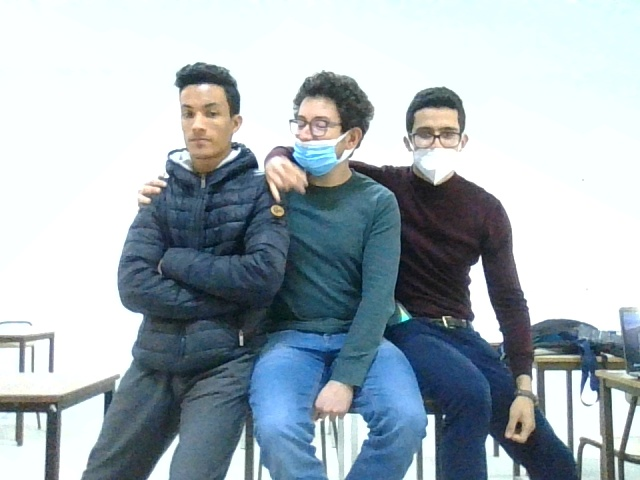mask_weared_incorrect: (286, 102, 345, 175), (409, 122, 467, 186)
without_mask: (174, 99, 235, 157)
